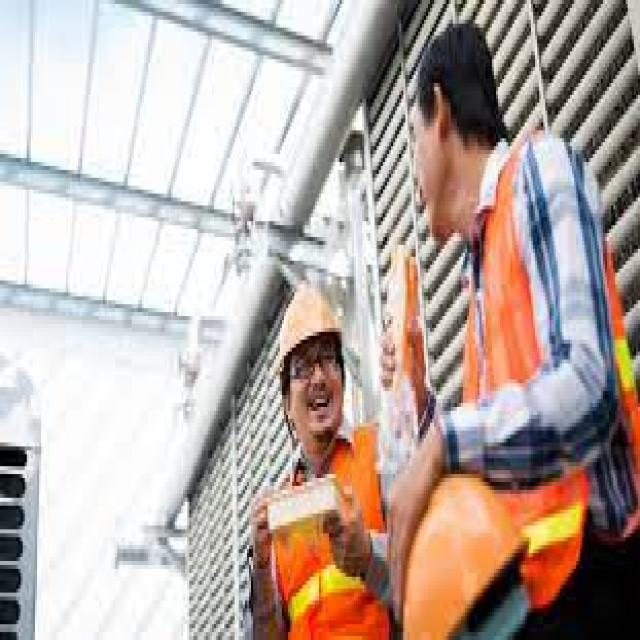Reflective-Jacket: (416, 111, 636, 612), (266, 419, 395, 636)
Safety-Helmet: (272, 273, 348, 375)
